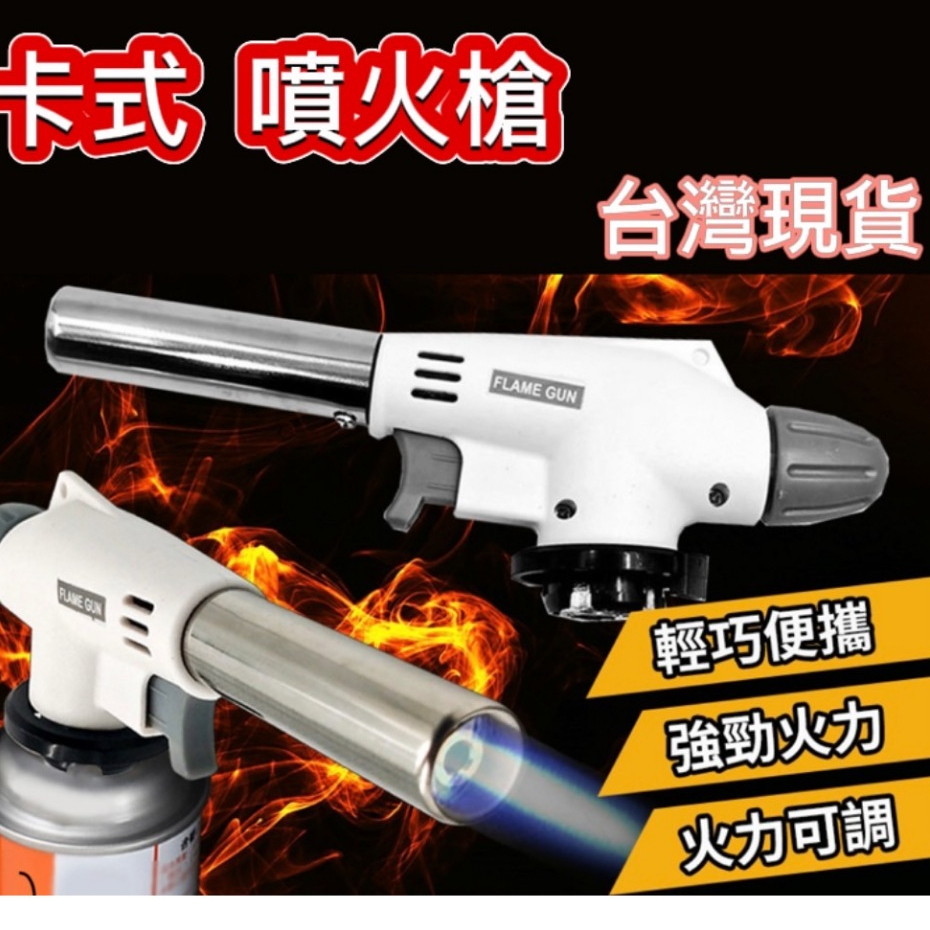gastorch: (1, 457, 547, 894)
